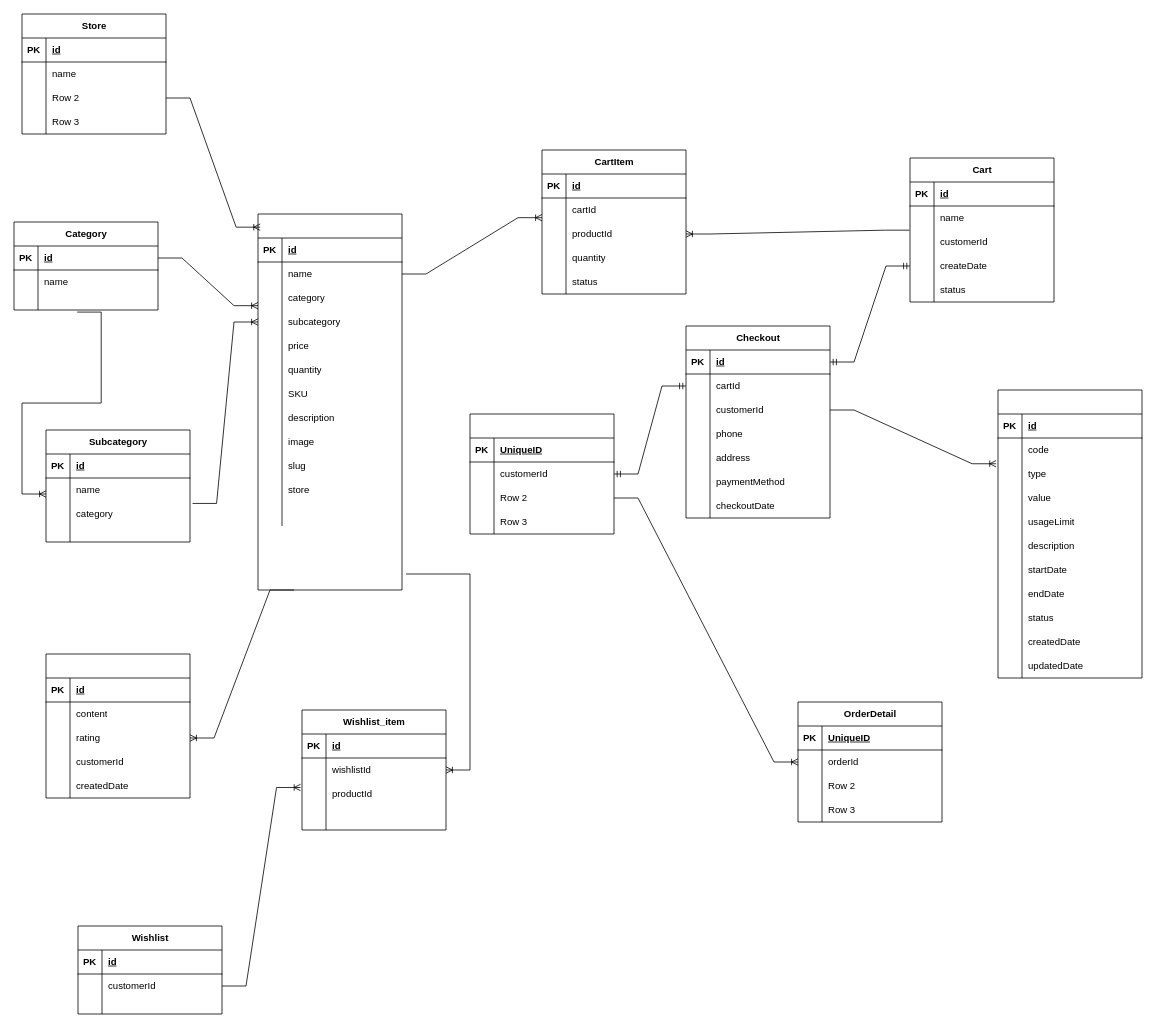
Some shapes in this 1156 by 1028 pixel diagram are drawn without their labels. Here are the shapes that lost their labels. From the top down, the box of each, then its label:
(257, 213, 402, 590): Product
(469, 413, 614, 534): Order
(997, 389, 1142, 678): Voucher
(45, 653, 190, 798): Review
